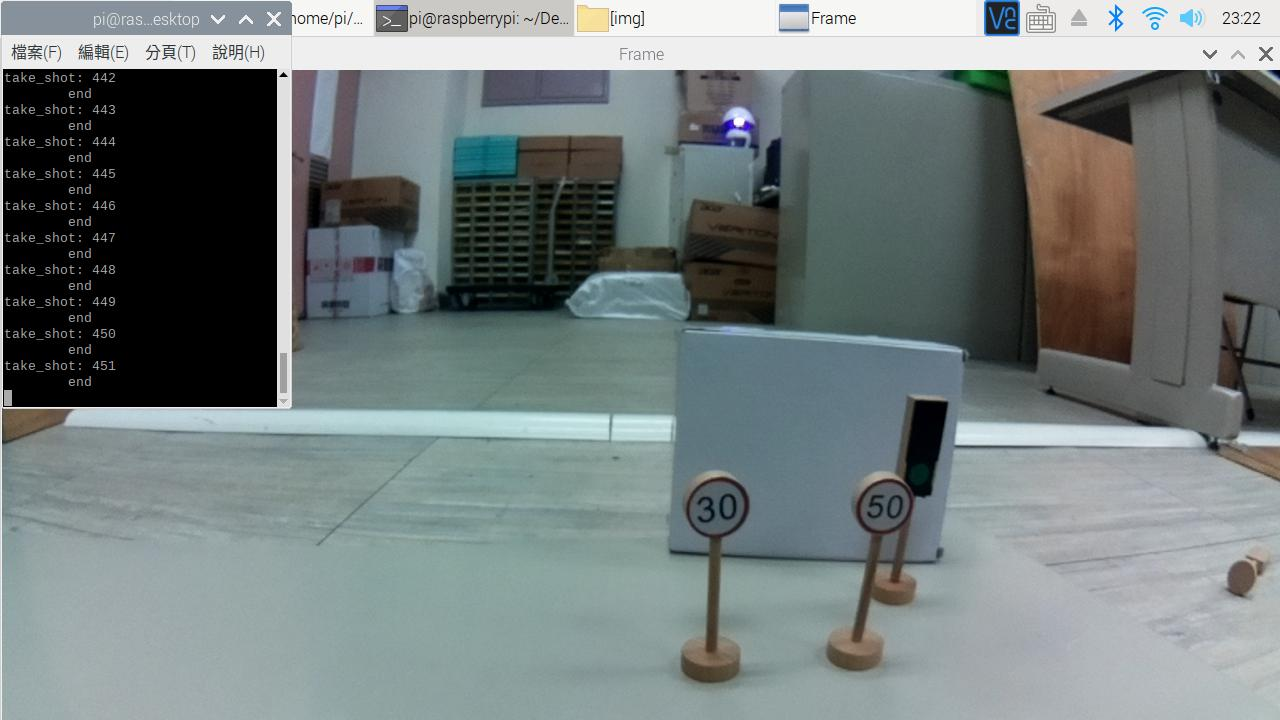Green: (897, 390, 958, 499)
Speed30: (679, 469, 749, 544)
Speed50: (847, 477, 911, 539)
